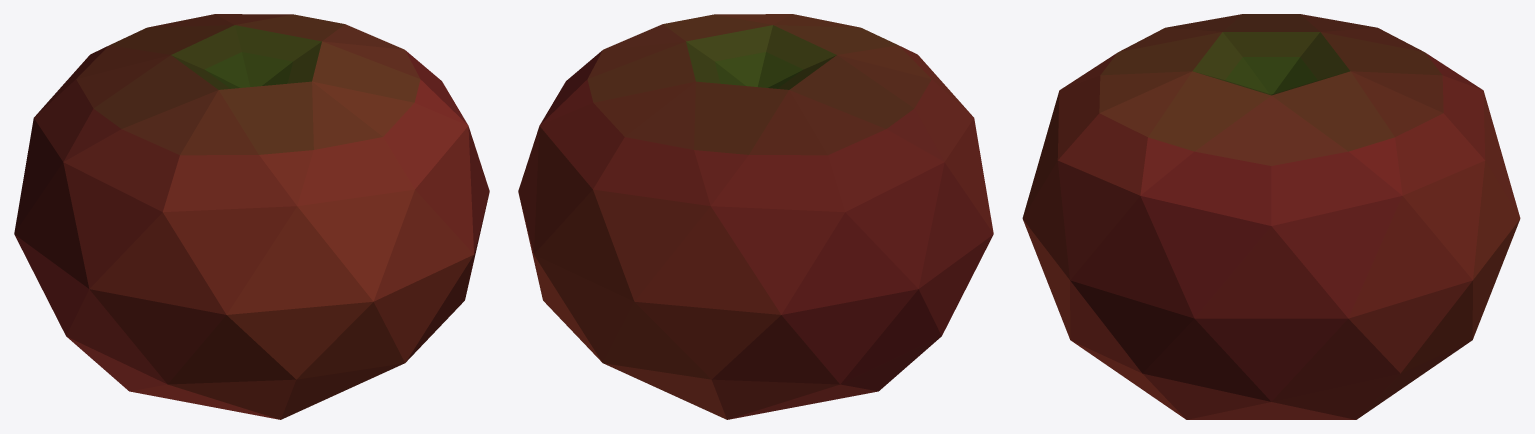
The model's file is Food_Tomato.fbx.
3 renders of one model, left to right at view 1: azimuth 30°, elevation 25°; view 2: azimuth 150°, elevation 25°; view 3: azimuth 270°, elevation 25°, orthographic. The views are drawn at different scales.
Parts seen in each view (by area): view 1: Food_Tomato; view 2: Food_Tomato; view 3: Food_Tomato.
Part boxes in pixels (box(x1,y1,x2,y2)): Food_Tomato: box(14, 14, 489, 419); Food_Tomato: box(518, 14, 993, 419); Food_Tomato: box(1022, 14, 1520, 419).
Bounding box in the file's own units: 8.65 × 6.25 × 9.09.
